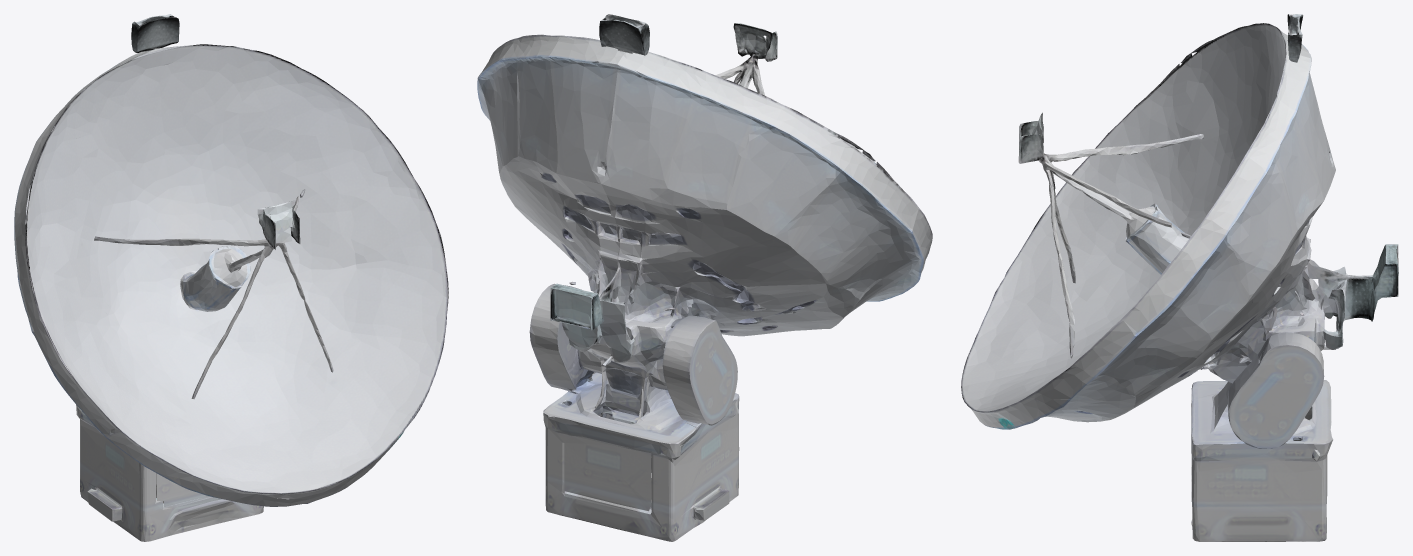
Rendered from High-GainKu-bandAntenna.glb.
The picture shows the model from 3 angles, left to right: view 1: azimuth 30°, elevation 25°; view 2: azimuth 150°, elevation 25°; view 3: azimuth 270°, elevation 25°; orthographic projection. The views are drawn at different scales.
Parts seen in each view (by area): view 1: world; view 2: world; view 3: world.
Boxes of the visible parts, bbox=[...] form: world: bbox=[14, 14, 448, 541]; world: bbox=[477, 14, 932, 541]; world: bbox=[961, 14, 1398, 541].
Bounding box in the file's own units: 0.8792 × 1 × 0.8106.
Materials: 1 (1 with a texture image).
